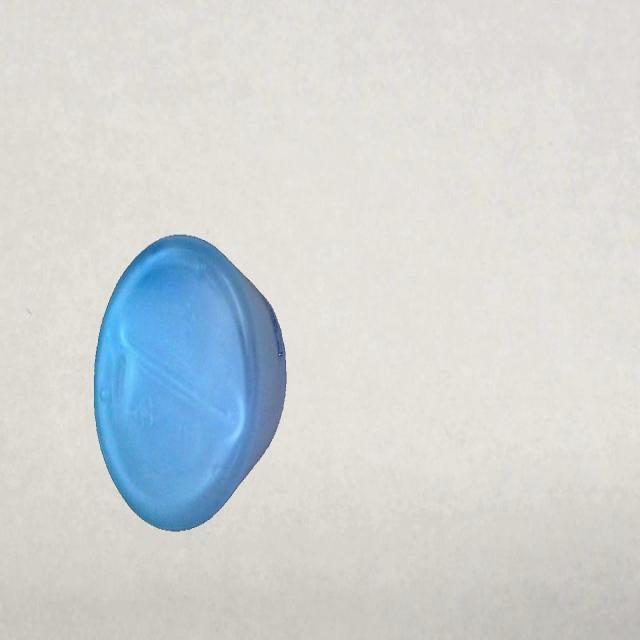bottle: (90, 225, 290, 538)
